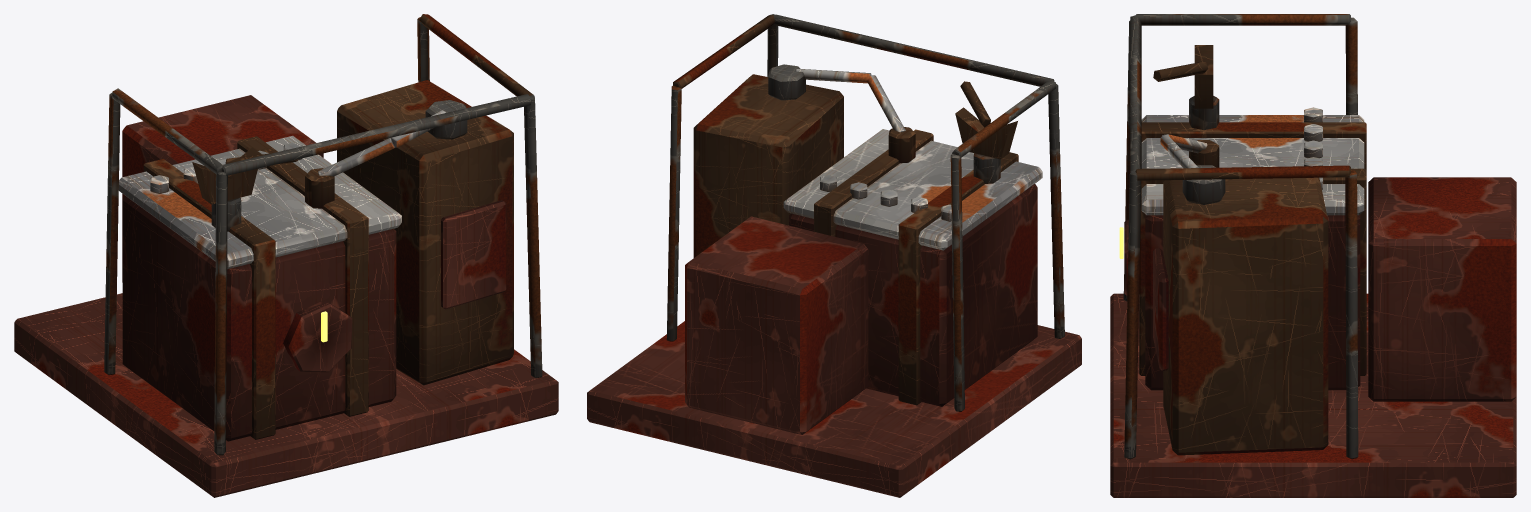
File: R4X_Battery_LOD1.glb
The picture shows the model from 3 angles, left to right: view 1: azimuth 30°, elevation 25°; view 2: azimuth 150°, elevation 25°; view 3: azimuth 270°, elevation 25°; orthographic projection. The views are drawn at different scales.
Parts seen in each view (by area): view 1: R4X_Battery_LOD1; view 2: R4X_Battery_LOD1; view 3: R4X_Battery_LOD1.
Part boxes in pixels (box(x1,y1,x2,y2)): R4X_Battery_LOD1: box(14, 14, 558, 497); R4X_Battery_LOD1: box(587, 14, 1081, 497); R4X_Battery_LOD1: box(1110, 14, 1516, 497).
Size of the model in its own units: 0.52 by 0.4576 by 0.52.
5 materials, 4 textured.
